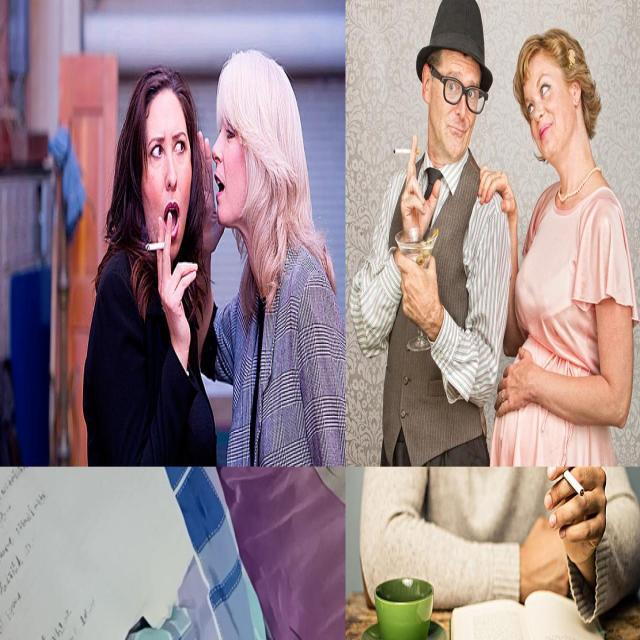cigarette: (559, 467, 585, 498), (392, 140, 420, 154), (144, 241, 168, 252)
